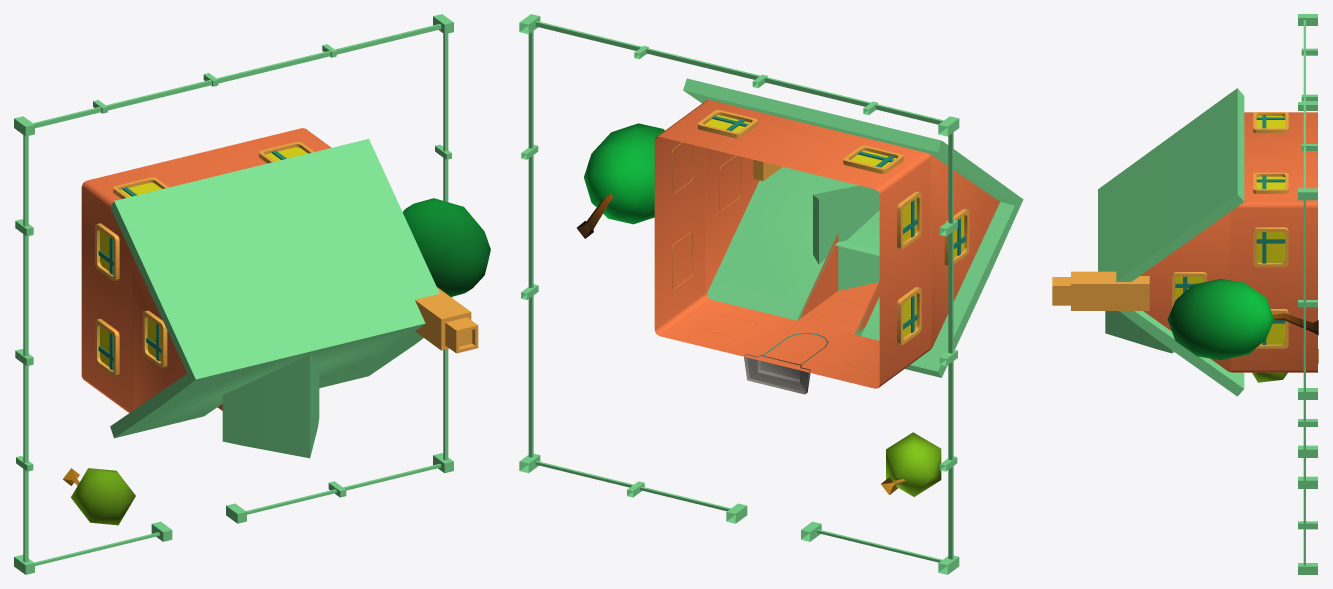
The model's file is Simple_House_01_03.fbx.
3 renders of one model, left to right at view 1: azimuth 30°, elevation 25°; view 2: azimuth 150°, elevation 25°; view 3: azimuth 270°, elevation 25°, orthographic. The views are drawn at different scales.
Visible parts, largest first — view 1: Simple_House_01_03; view 2: Simple_House_01_03; view 3: Simple_House_01_03.
Part boxes in pixels (<box>): Simple_House_01_03: <box>14,14,490,574</box>; Simple_House_01_03: <box>519,14,1023,574</box>; Simple_House_01_03: <box>1052,14,1318,574</box>.
Bounding box in the file's own units: 197 × 197 × 124.
